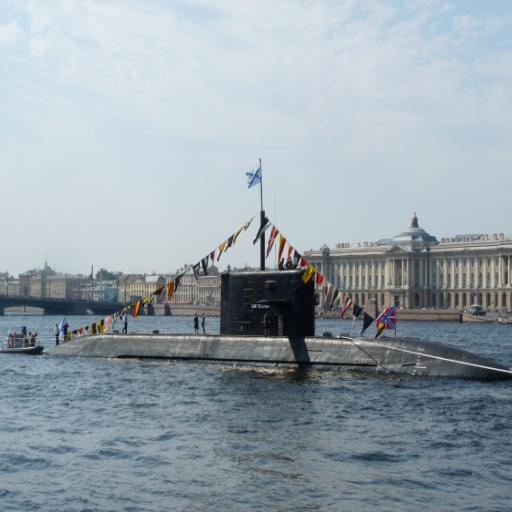submarine: (47, 207, 512, 382)
